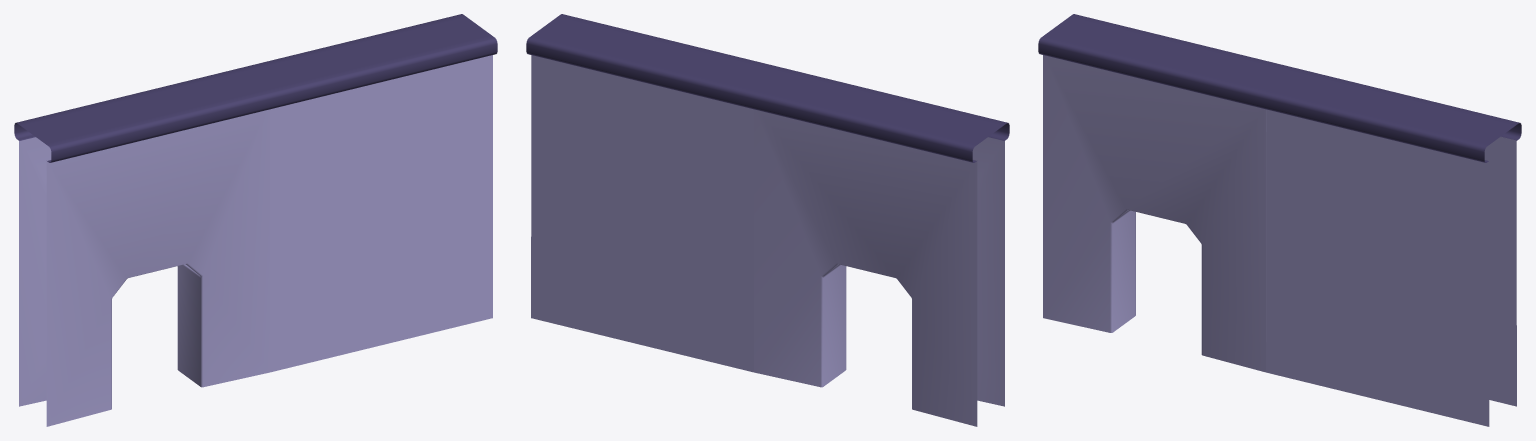
File: walls.gltf
The picture shows the model from 3 angles, left to right: view 1: azimuth 30°, elevation 25°; view 2: azimuth 150°, elevation 25°; view 3: azimuth 330°, elevation 25°; orthographic projection.
Visible parts, largest first — view 1: parede.005, parede.006; view 2: parede.005, parede.006; view 3: parede.005, parede.006.
Part boxes in pixels (box(x1,y1,x2,y2)): parede.005: box(239, 14, 497, 372); parede.006: box(14, 68, 274, 426); parede.005: box(526, 14, 784, 372); parede.006: box(749, 68, 1009, 426); parede.005: box(1261, 68, 1521, 426); parede.006: box(1038, 14, 1296, 372).
Bounding box in the file's own units: 11.06 × 6.68 × 1.59.
